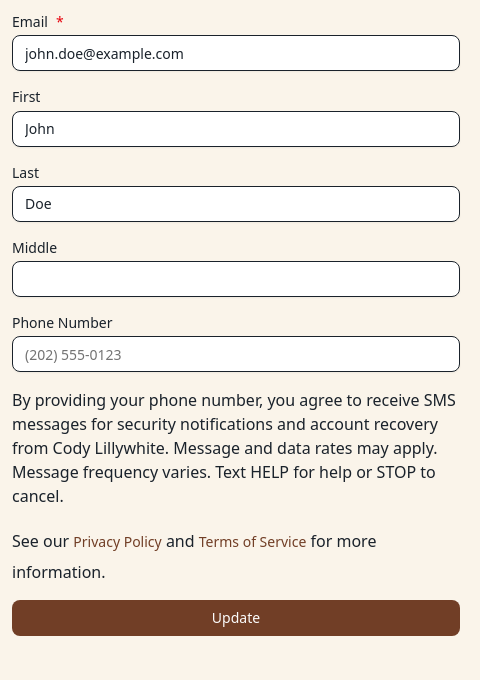
UserSettingsForm › should show error when phone number is invalid
Type "123" into the field named "phone_number" at coordinates (236, 354), box [12,336,460,372]
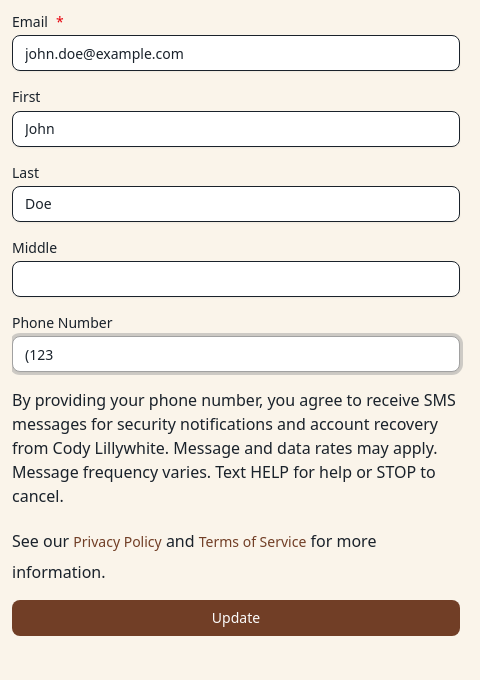
Click the submit button at coordinates (236, 618), box [12,600,460,636]
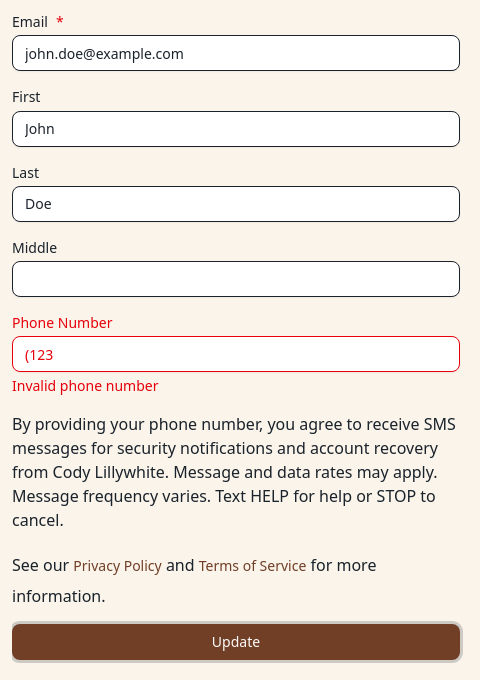
Expected: the message with test id "error-message-phone_number" reads "Invalid phone number", [12,376,159,395]
